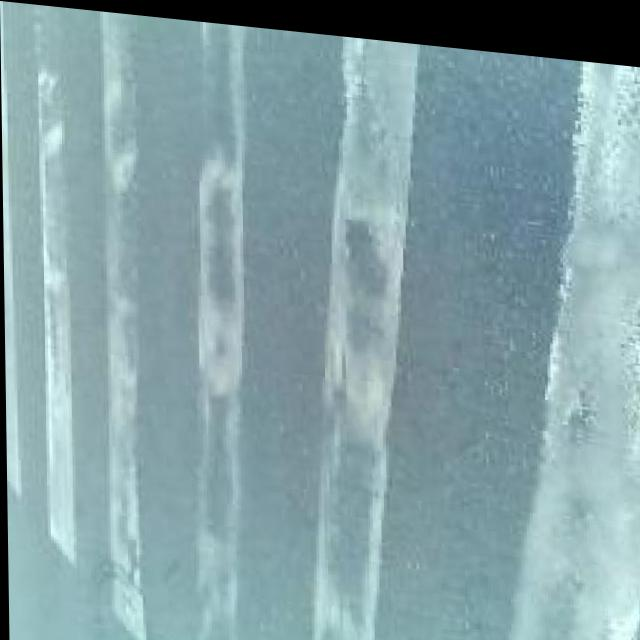zebra: (29, 25, 624, 593)
